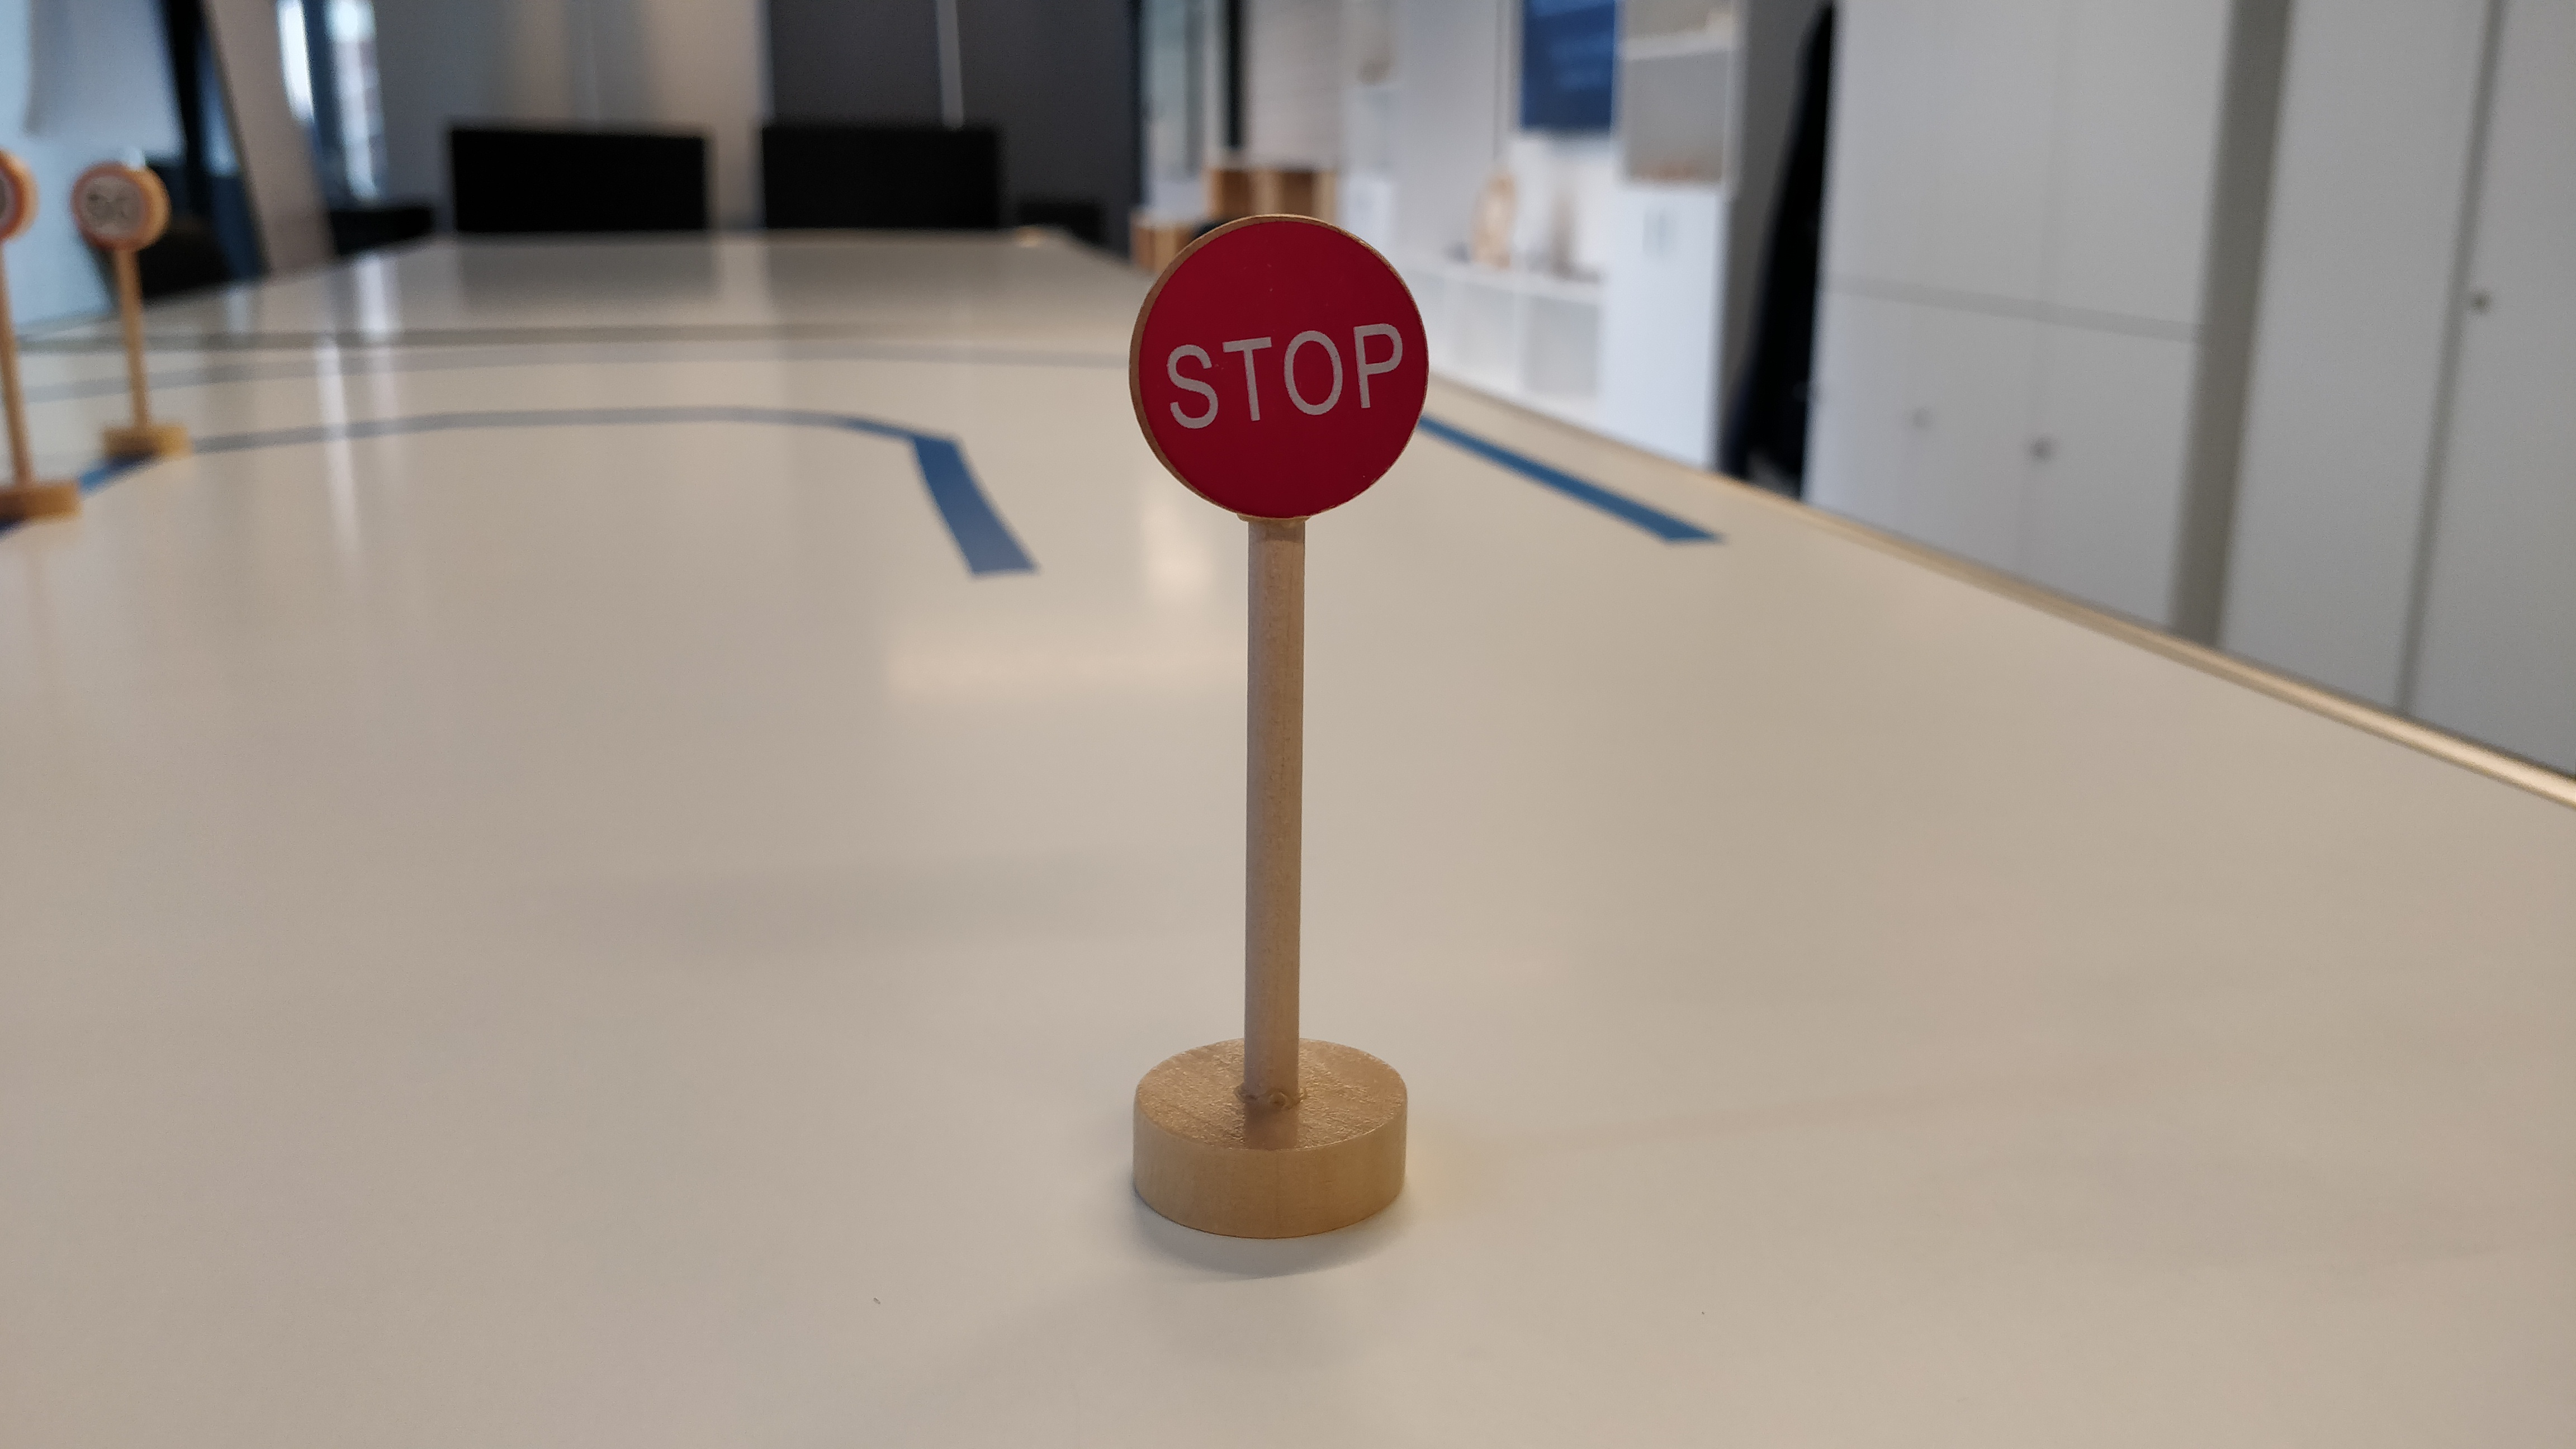Stop Sign: (1123, 210, 1436, 525)
